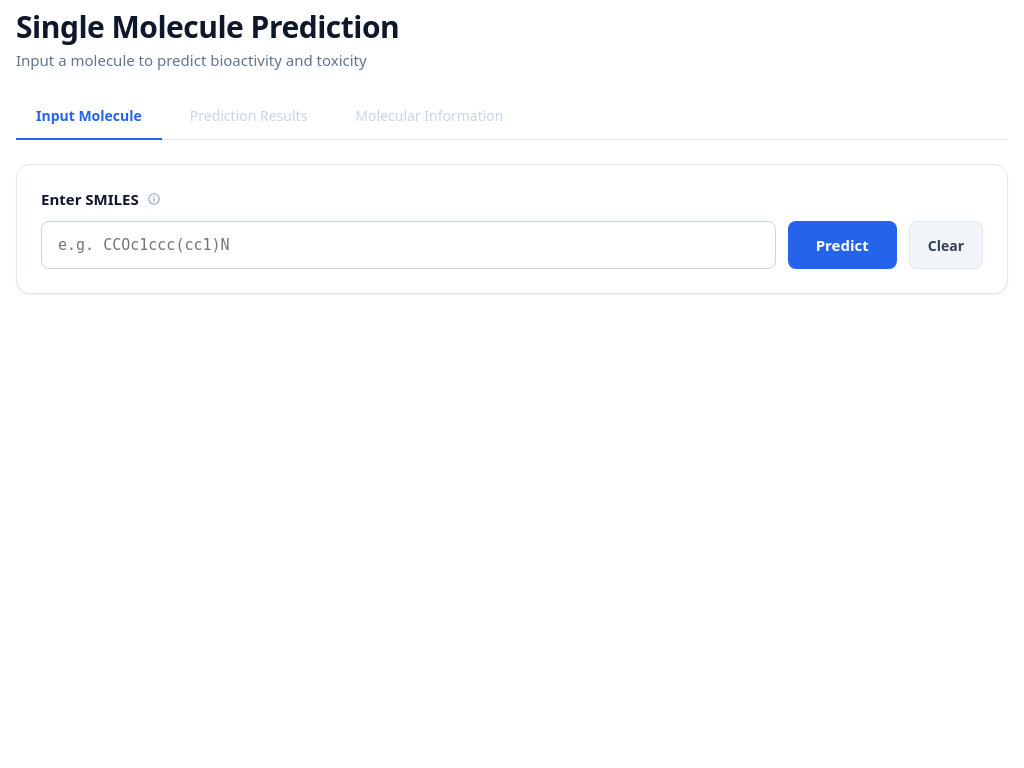
SinglePredictionPage › shows alert error copy for {"name":"PredictError","kind":"invalid-smiles"} and recovers on retry
Type "CCO" into the field labelled "Enter SMILES" at {"x": 408, "y": 245}, box 41,221 -> 776,269
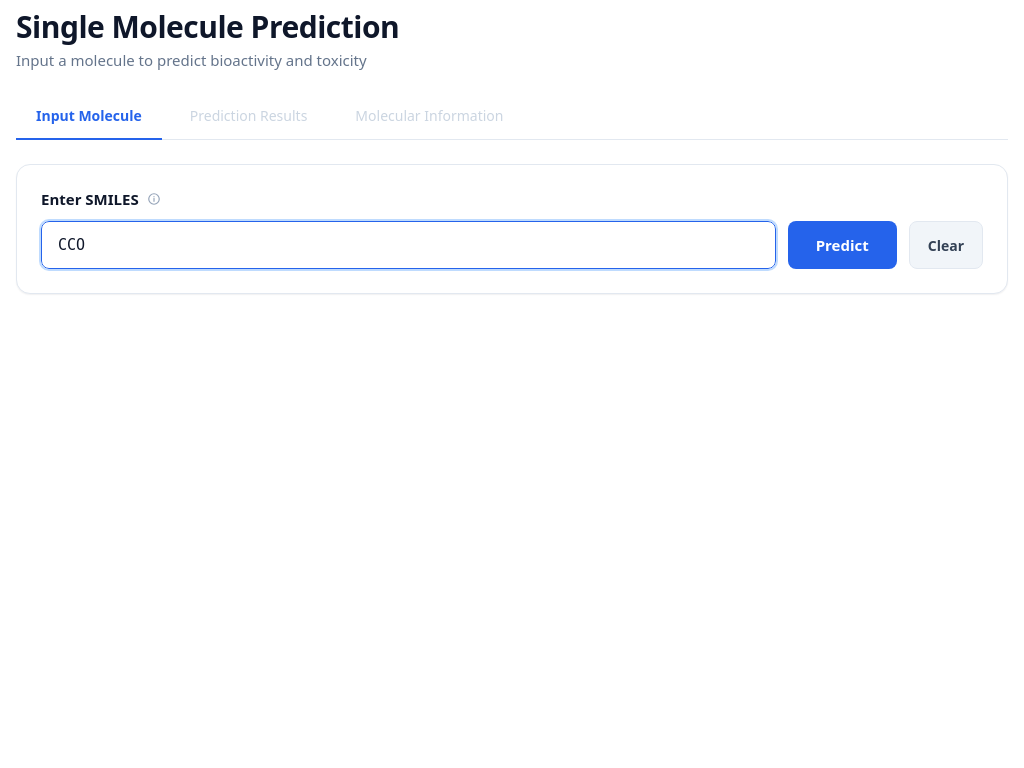
Click the button "Predict" at {"x": 842, "y": 245}, box 788,221 -> 897,269
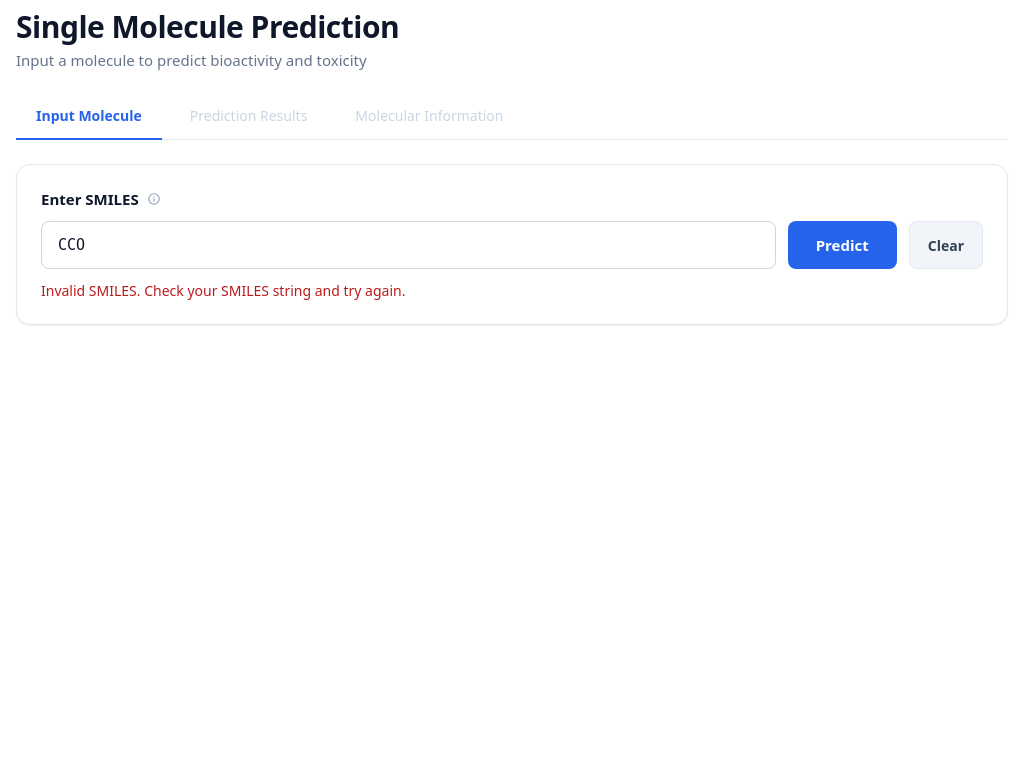
Expected: the tab "Prediction Results" is disabled, 170,94 -> 327,140
Result: the message reads "Invalid SMILES. Check your SMILES string and try again." at 41,281 -> 405,300
Click the button "Predict" at {"x": 842, "y": 245}, box 788,221 -> 897,269
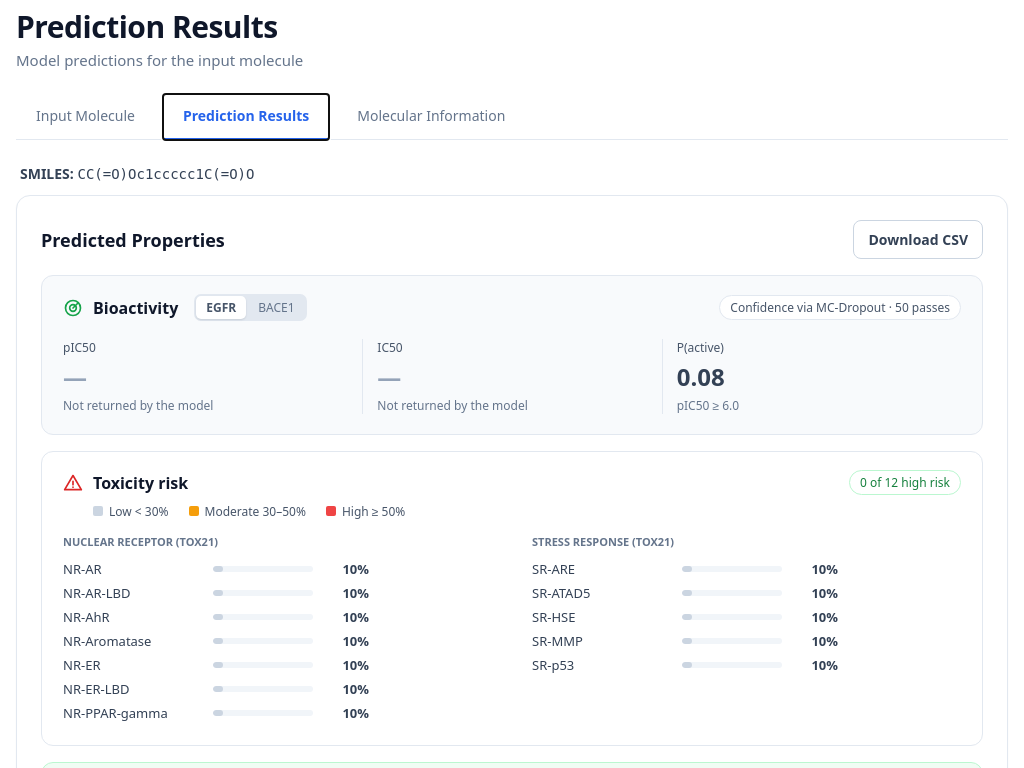
Result: the heading "Prediction Results" is shown at 16,6 -> 278,47
